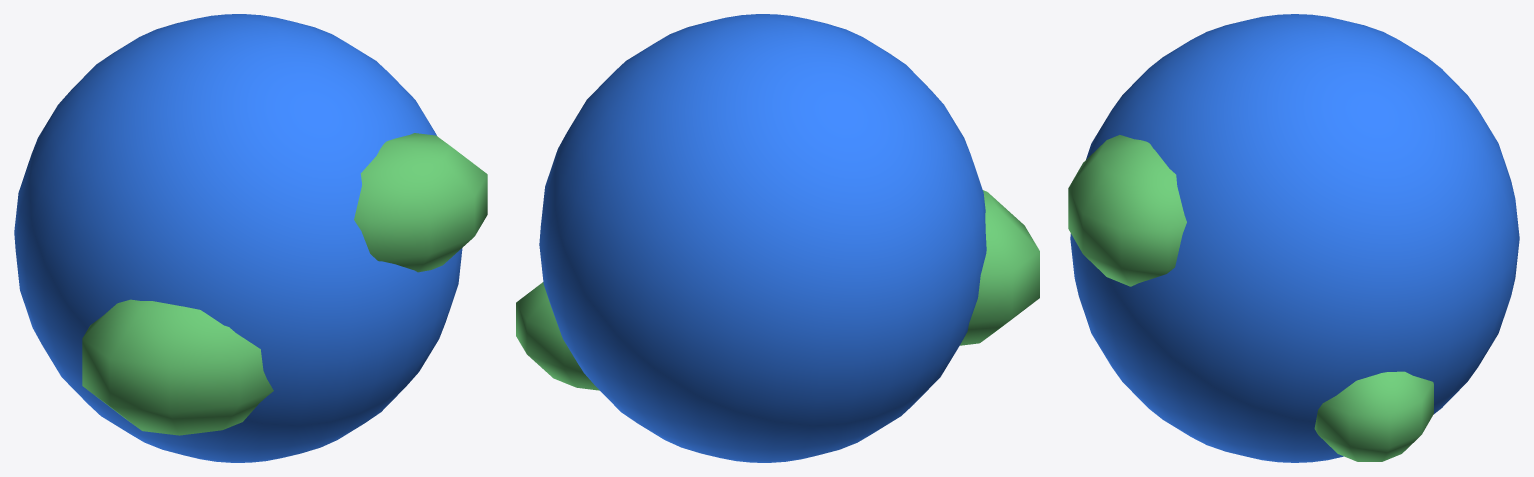
File: planet_earth.glb
3 renders of one model, left to right at view 1: azimuth 30°, elevation 25°; view 2: azimuth 150°, elevation 25°; view 3: azimuth 270°, elevation 25°, orthographic.
Parts seen in each view (by area): view 1: planet_earth; view 2: planet_earth; view 3: planet_earth.
Part boxes in pixels (x1,y1,x2,y2): planet_earth: (14,14,487,462); planet_earth: (516,14,1039,462); planet_earth: (1068,14,1519,462).
Size of the model in its own units: 0.3102 by 0.3 by 0.3014.
